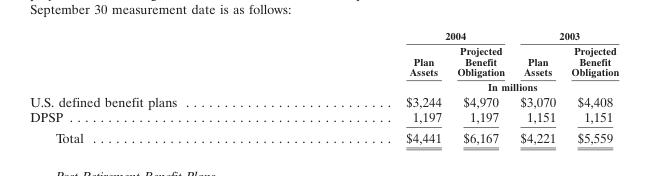table: (29, 28, 618, 145)
table column: (29, 28, 290, 145), (290, 28, 448, 145), (448, 28, 511, 145), (562, 28, 618, 145), (511, 28, 562, 145)
table column header: (29, 28, 618, 93)
table row: (29, 42, 618, 78), (29, 109, 618, 127), (29, 127, 618, 145), (29, 93, 618, 109), (29, 78, 618, 93), (29, 28, 618, 42)
table spanning cell: (290, 78, 618, 93), (290, 28, 511, 42), (511, 28, 618, 42)
